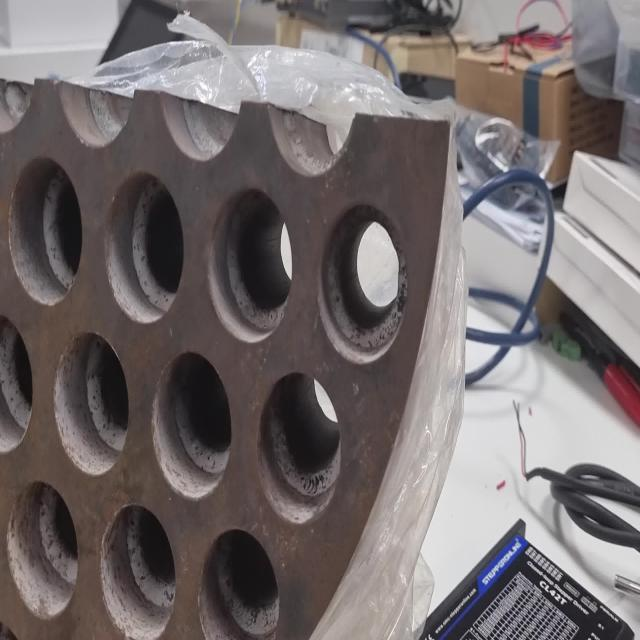Hole: (318, 201, 409, 364), (206, 188, 293, 344), (257, 368, 342, 524), (104, 169, 184, 325), (151, 348, 232, 501), (8, 156, 82, 306), (53, 332, 129, 476), (100, 501, 176, 640), (6, 480, 79, 620), (198, 526, 279, 640)
